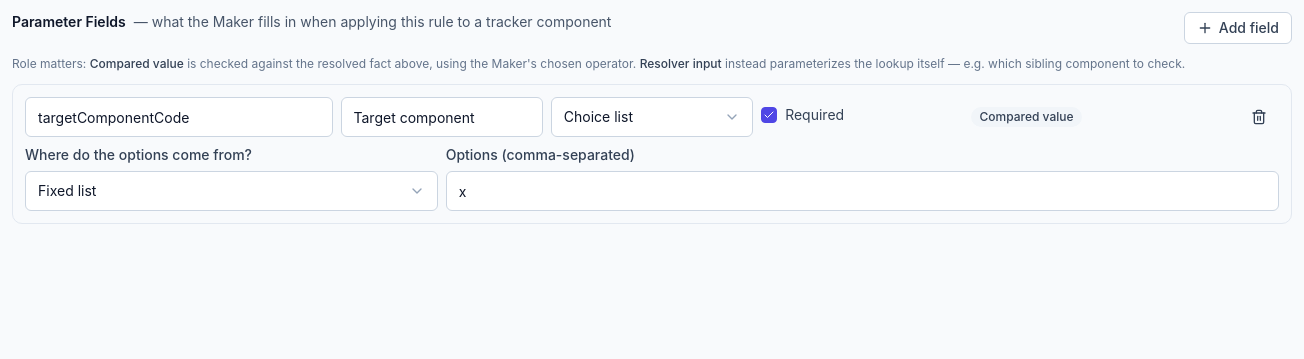
Test: ParameterFieldsEditor › value-source picker (T-125) › TC-1: switching to "This journey" replaces the options input with a context-provider picker and clears options
The image size is (1304, 359).
Click the dropdown named "where do the options come from" at (67, 190), box [25, 171, 438, 211]
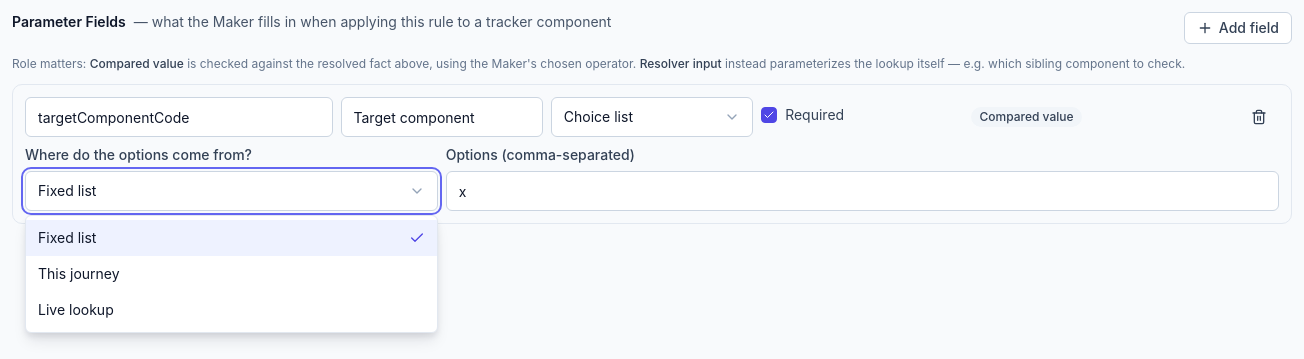
Click the option "This journey" at (79, 274), box [38, 265, 120, 282]
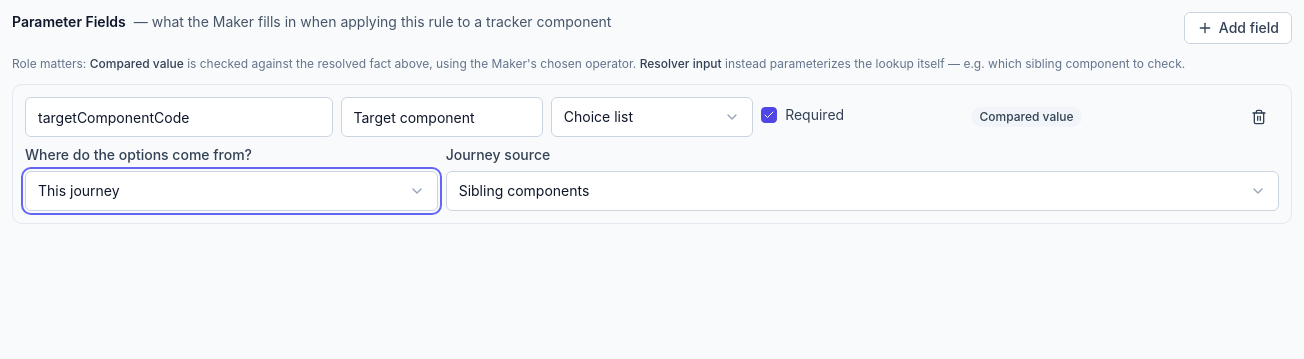
Expected: the label labelled "Options (comma-separated)" is gone
Expected: the dropdown named "journey source" is shown, [446, 171, 1279, 211]
